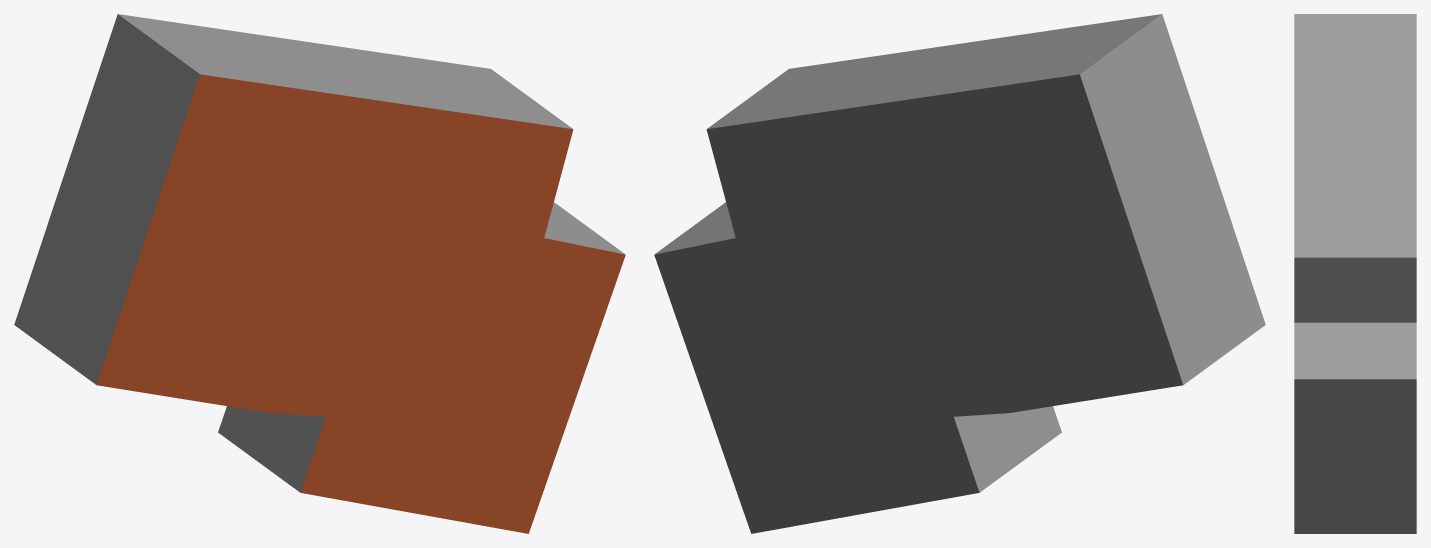
The model's file is construction_2384_assumed_A_Casa_h6m.obj.
The picture shows the model from 3 angles, left to right: view 1: azimuth 30°, elevation 25°; view 2: azimuth 150°, elevation 25°; view 3: azimuth 270°, elevation 25°; orthographic projection. The views are drawn at different scales.
Parts seen in each view (by area): view 1: construction_2384_assumed_A_Casa; view 2: construction_2384_assumed_A_Casa; view 3: construction_2384_assumed_A_Casa.
Part boxes in pixels (box(x1,y1,x2,y2)): construction_2384_assumed_A_Casa: box(14, 14, 625, 533); construction_2384_assumed_A_Casa: box(654, 14, 1265, 533); construction_2384_assumed_A_Casa: box(1294, 14, 1416, 533).
Bounding box in the file's own units: 22.23 × 21.67 × 6.
